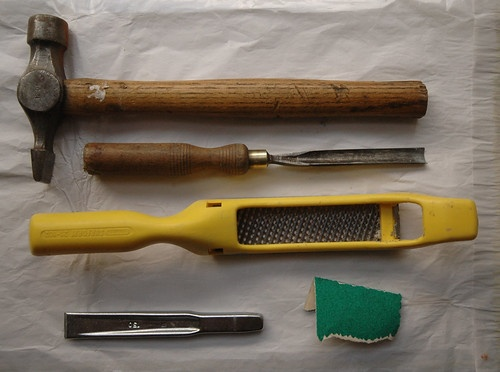hammer: (15, 14, 400, 182)
